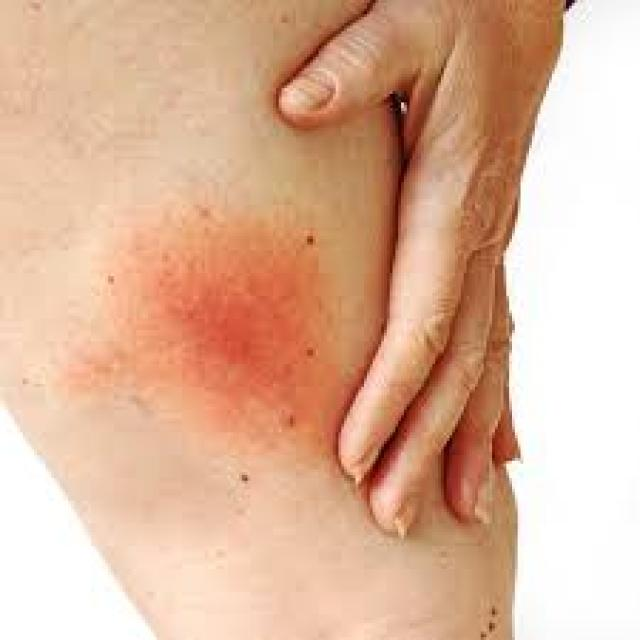kene: (157, 231, 311, 414)
